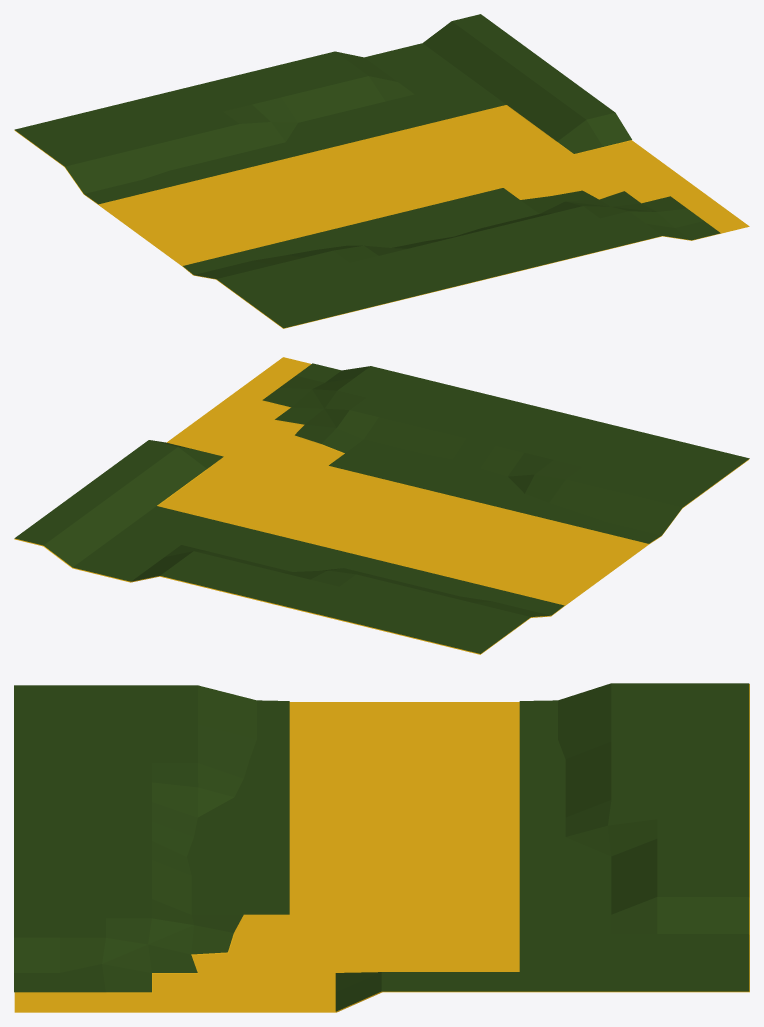
The model's file is Test_Landscape.glb.
3 renders of one model, top to bottom at view 1: azimuth 30°, elevation 25°; view 2: azimuth 150°, elevation 25°; view 3: azimuth 270°, elevation 25°, orthographic. The views are drawn at different scales.
Parts seen in each view (by area): view 1: GrassLayer, Ground-col; view 2: GrassLayer, Ground-col; view 3: GrassLayer, Ground-col.
Part boxes in pixels (x1,y1,x2,y2): GrassLayer: [14, 14, 720, 328]; Ground-col: [14, 105, 749, 328]; GrassLayer: [14, 363, 749, 653]; Ground-col: [14, 357, 749, 654]; GrassLayer: [14, 683, 749, 1011]; Ground-col: [14, 684, 749, 1012].
Size of the model in its own units: 14.1 by 0.4489 by 14.08.
